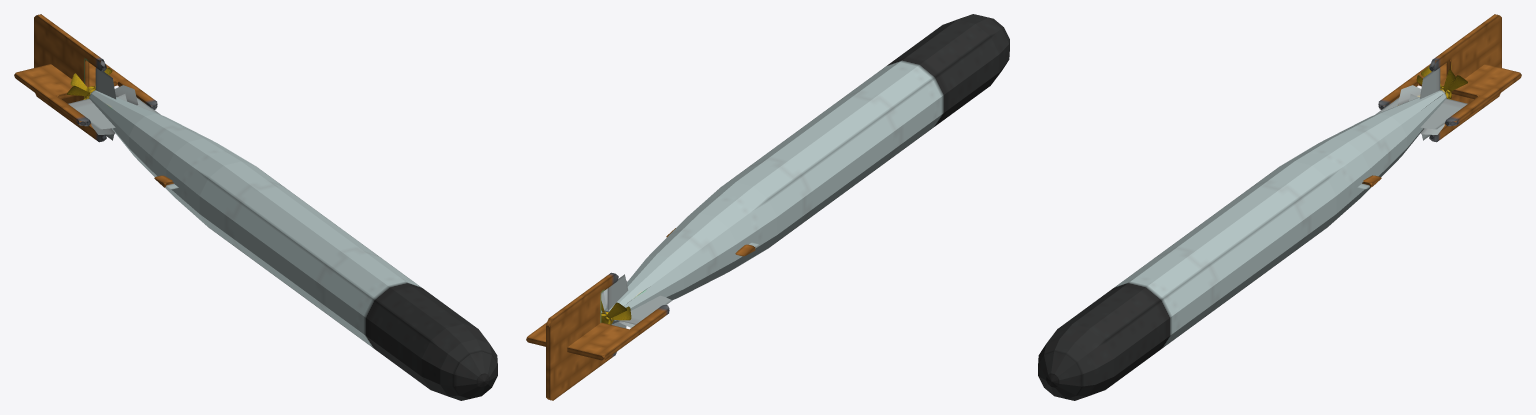
The model's file is type91.obj.
The picture shows the model from 3 angles, left to right: view 1: azimuth 30°, elevation 25°; view 2: azimuth 150°, elevation 25°; view 3: azimuth 330°, elevation 25°; orthographic projection.
Parts seen in each view (by area): view 1: pedo, wood; view 2: pedo, wood; view 3: pedo, wood.
Part boxes in pixels (box(x1,y1,x2,y2)): pedo: box(68, 68, 497, 400); wood: box(14, 14, 173, 187); pedo: box(601, 14, 1009, 328); wood: box(526, 228, 755, 400); pedo: box(1038, 68, 1467, 400); wood: box(1362, 14, 1521, 187).
Size of the model in its own units: 1 by 0.9875 by 9.84.
